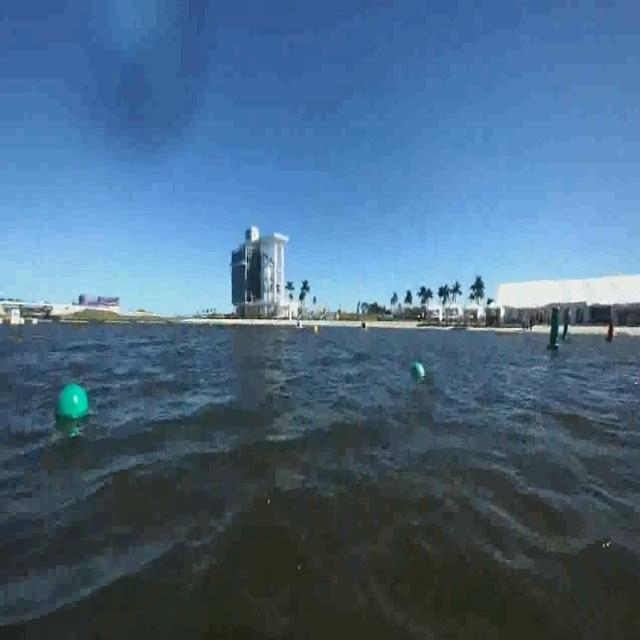green-buoy: (54, 384, 90, 422), (412, 362, 423, 376)
green-column-buoy: (547, 306, 563, 352), (564, 301, 570, 344)
red-column-buoy: (606, 318, 616, 342)
yellow-buoy: (314, 324, 320, 336)
